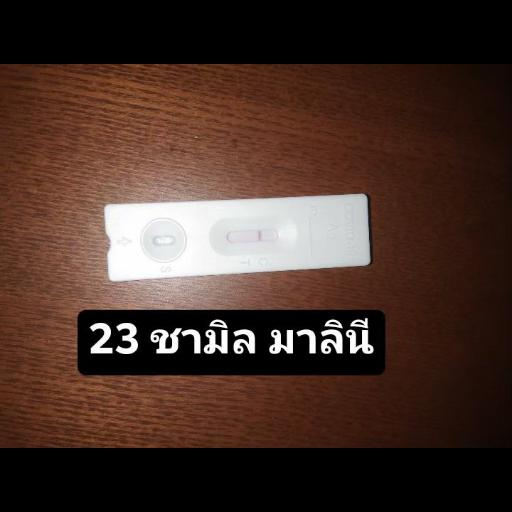Neg: (105, 193, 372, 282)
